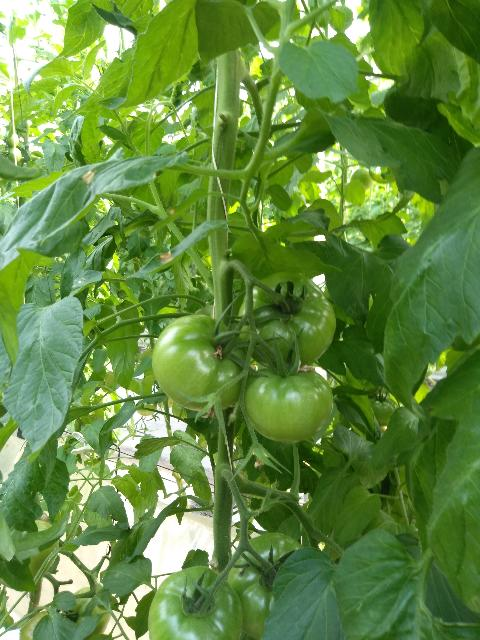b_green: (236, 272, 336, 371), (151, 314, 251, 411), (227, 533, 304, 639), (148, 565, 244, 640), (240, 369, 334, 443), (0, 520, 59, 590), (62, 586, 111, 640), (20, 610, 49, 640)
